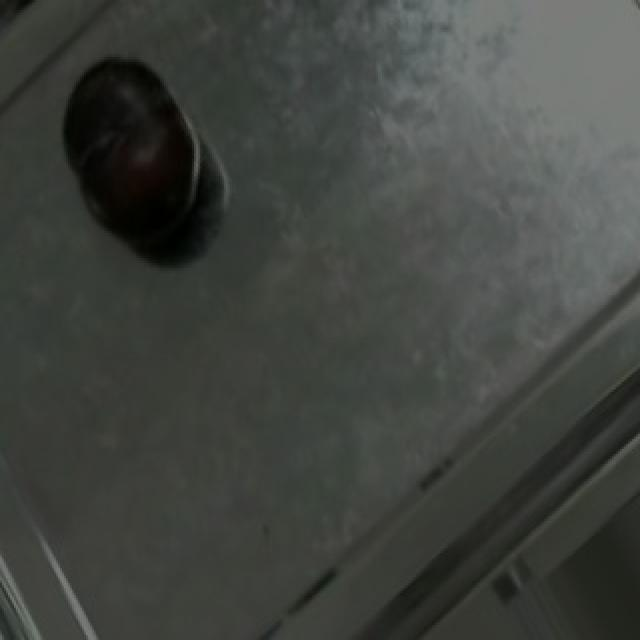Fruit: (42, 37, 218, 251)
